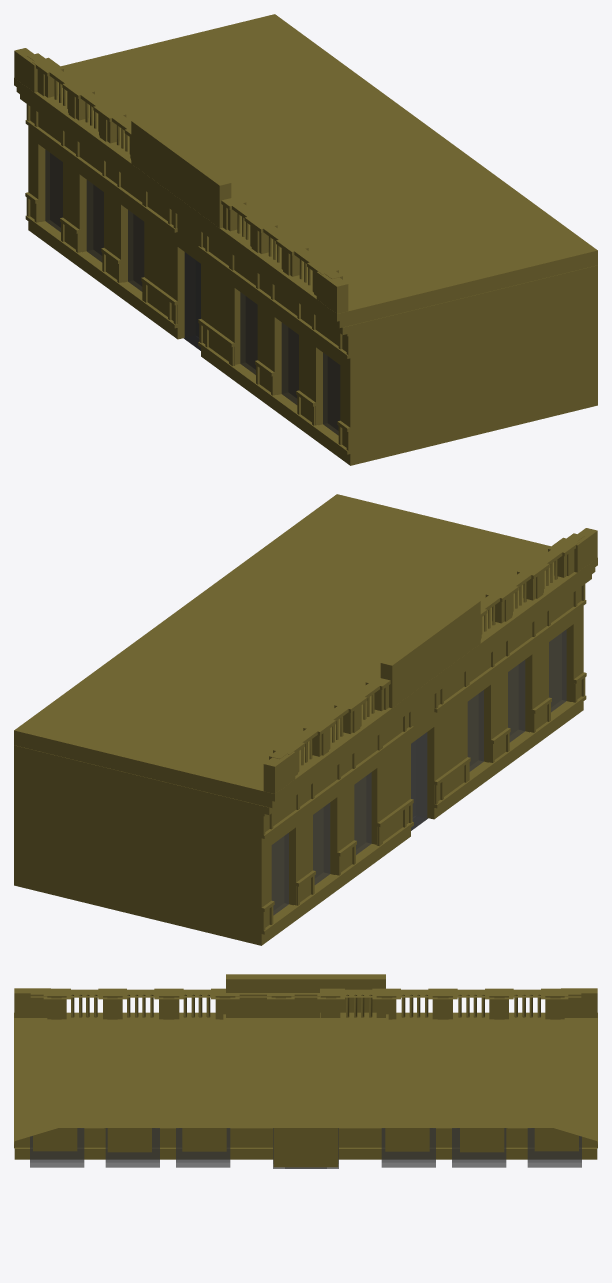
The model's file is edificio 2.fbx.
3 renders of one model, top to bottom at view 1: azimuth 30°, elevation 25°; view 2: azimuth 150°, elevation 25°; view 3: azimuth 270°, elevation 25°, orthographic. The views are drawn at different scales.
Visible parts, largest first — view 1: Base2, Base, Ventanas y Puertas2, Ventanas y Puertas; view 2: Base, Base2, Ventanas y Puertas, Ventanas y Puertas2; view 3: Base2, Base, Ventanas y Puertas, Ventanas y Puertas2.
Part boxes in pixels (<box>): Base2: <box>129,99,597,465</box>; Base: <box>14,14,390,380</box>; Ventanas y Puertas2: <box>183,252,340,435</box>; Ventanas y Puertas: <box>45,149,200,350</box>; Base: <box>14,598,481,945</box>; Base2: <box>130,494,597,860</box>; Ventanas y Puertas: <box>271,733,428,915</box>; Ventanas y Puertas2: <box>411,629,566,830</box>; Base2: <box>14,974,388,1167</box>; Base: <box>223,974,597,1167</box>; Ventanas y Puertas: <box>273,1128,581,1168</box>; Ventanas y Puertas2: <box>30,1128,338,1168</box>.
Size of the model in its own units: 1832 by 1336 by 3919.
